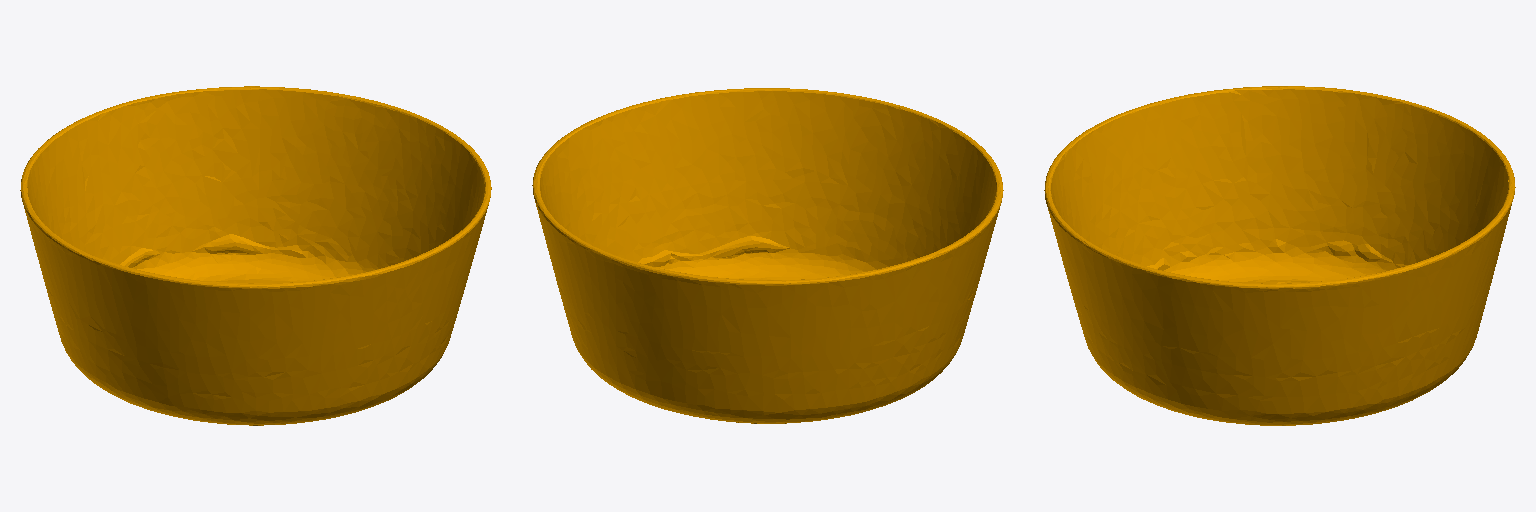
robot.urdf — model.urdf:
<?xml version="0.0" ?>
<robot name="model.urdf">
  <link name="baseLink">
    <contact>
      <friction_anchor/>
      <lateral_friction value="0.3"/>
      <rolling_friction value="0.0"/>
      <contact_cfm value="0.0"/>
      <contact_erp value="1.0"/>
    </contact>
    <inertial>
       <origin rpy="0 0 0" xyz="0 0 0"/>
       <mass value="0.1"/>
       <inertia ixx="8e-05" ixy="0" ixz="0" iyy="0.0002" iyz="0" izz="0.0002"/>
    </inertial>
    <visual>
      <geometry>
        <mesh filename="textured.obj" scale="1 1 1"/>
      </geometry>
      <!-- <material name="white">
        <color rgba="1 1 1 1"/>
      </material> -->
    </visual>
    <collision>
      <geometry>
    	 	<mesh filename="collision.obj" scale="1 1 1"/>
      </geometry>
    </collision>
  </link>
</robot>

--- Facts derived from the render (not from the file) ---
The picture shows the robot from 3 angles, left to right: view 1: azimuth 30°, elevation 25°; view 2: azimuth 150°, elevation 25°; view 3: azimuth 270°, elevation 25°; orthographic projection.
Model model.urdf with 1 links and 0 joints (none), rooted at baseLink, posed all joints at 0.
Visible links, largest first — view 1: baseLink; view 2: baseLink; view 3: baseLink.
Boxes of the visible links, x1,y1,x2,y2 form: baseLink: (20,86,491,425); baseLink: (532,88,1003,423); baseLink: (1044,86,1515,425).
Bounding box of the posed robot: 0.1201 × 0.1191 × 0.0492 m (x, y, z).
Meshes: 1 distinct files referenced, 1 mesh visuals loaded (1 OBJ).